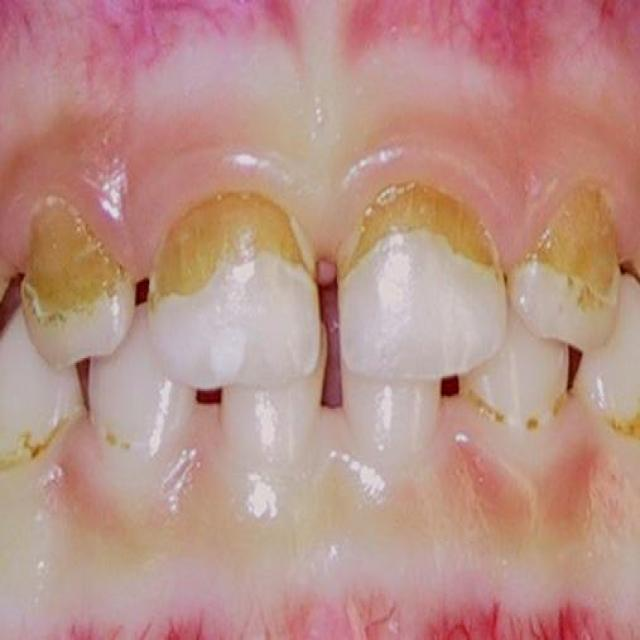Gap: (265, 220, 395, 372), (86, 245, 179, 344), (294, 376, 382, 449), (416, 359, 506, 421), (548, 338, 614, 397), (177, 376, 247, 431), (54, 370, 113, 420)
